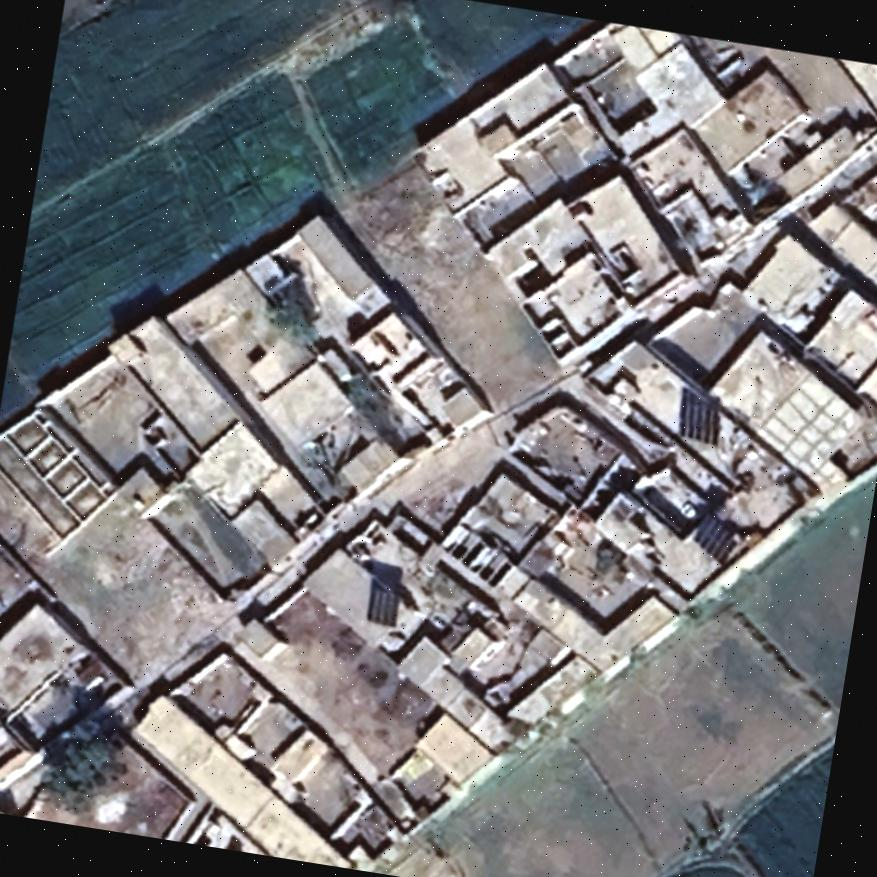Solarpanel: (670, 380, 730, 448), (685, 505, 745, 568), (360, 574, 407, 631)
